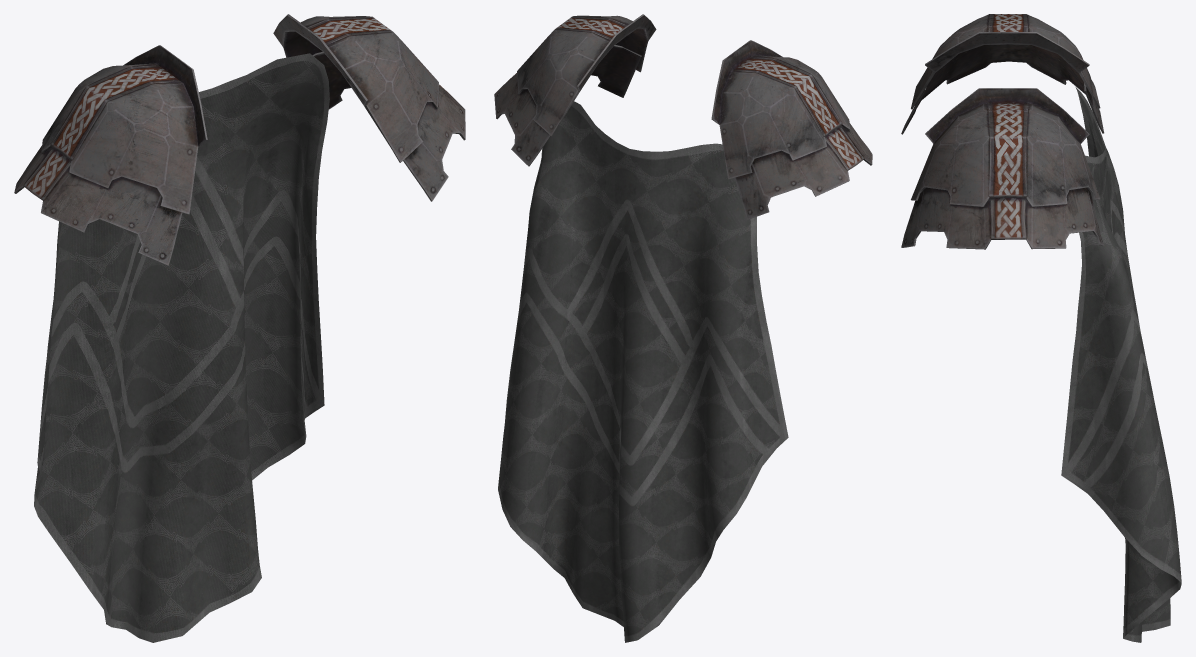
Rendered from sk_dwarf_iron_pauldron_heavy_cape_a.fbx.
3 views of the same model, side by side, from view 1: azimuth 30°, elevation 25°; view 2: azimuth 150°, elevation 25°; view 3: azimuth 270°, elevation 25° (orthographic). The views are drawn at different scales.
Visible parts, largest first — view 1: sk_dwarf_iron_pauldron_heavy_cape_a.cape, sk_dwarf_iron_pauldron_heavy_cape_a; view 2: sk_dwarf_iron_pauldron_heavy_cape_a.cape, sk_dwarf_iron_pauldron_heavy_cape_a; view 3: sk_dwarf_iron_pauldron_heavy_cape_a, sk_dwarf_iron_pauldron_heavy_cape_a.cape.
Part boxes in pixels (x1,y1,x2,y2): sk_dwarf_iron_pauldron_heavy_cape_a.cape: (34, 53, 329, 642); sk_dwarf_iron_pauldron_heavy_cape_a: (14, 14, 465, 265); sk_dwarf_iron_pauldron_heavy_cape_a.cape: (498, 101, 788, 642); sk_dwarf_iron_pauldron_heavy_cape_a: (494, 14, 872, 219); sk_dwarf_iron_pauldron_heavy_cape_a: (901, 14, 1104, 249); sk_dwarf_iron_pauldron_heavy_cape_a.cape: (1061, 86, 1181, 642).
Size of the model in its own units: 0.7125 by 0.4614 by 1.05.
2 materials, 2 textured.
